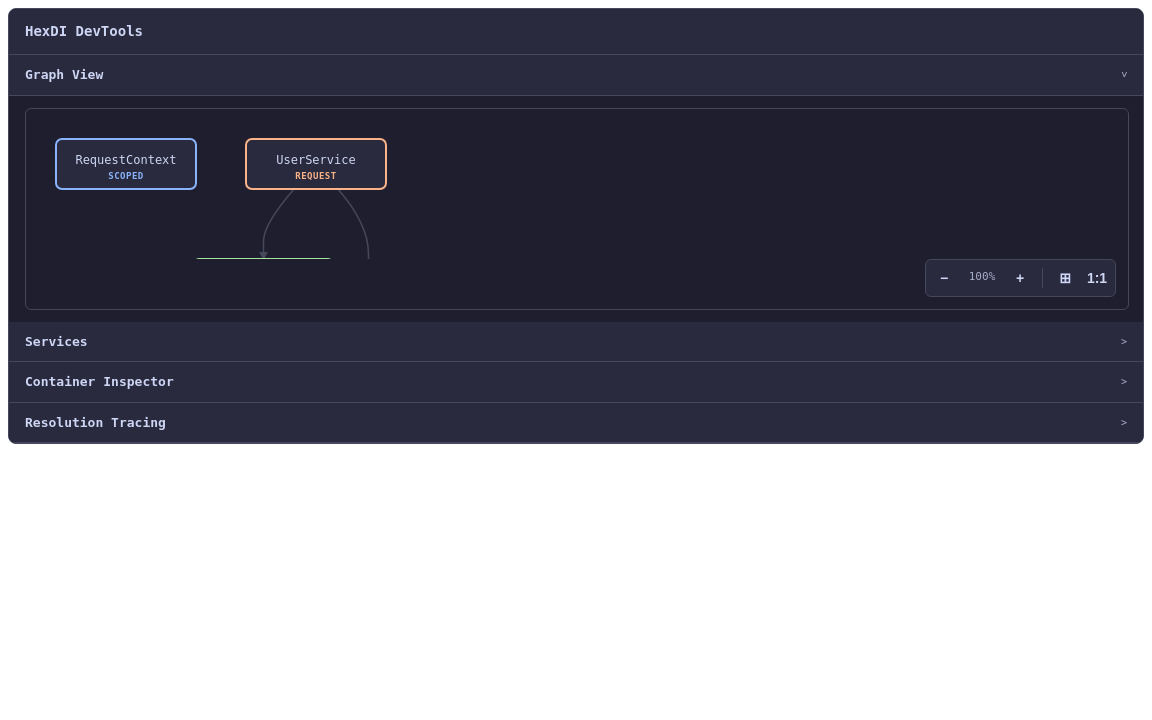
Test case: ContainerInspector › ScopeHierarchy displays tree structure with expand/collapse
Click the button with test id "container-inspector-header" at (99, 382), box left=9, top=362, right=1143, bottom=402
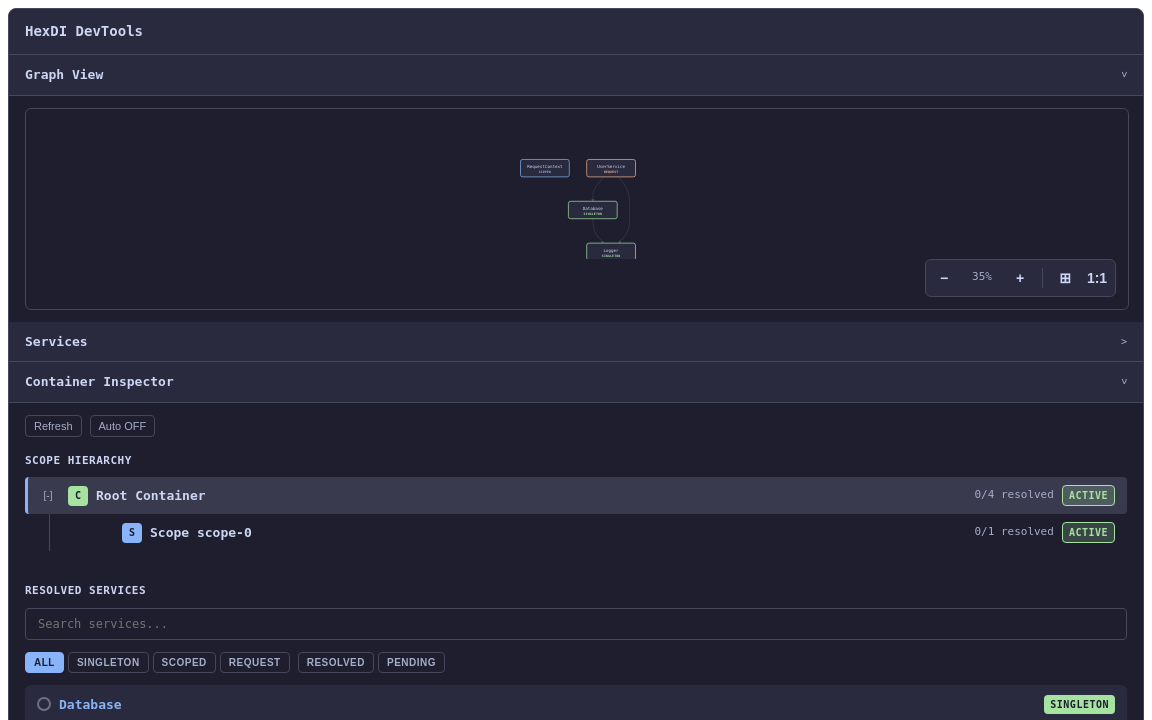
Check: the element with test id "scope-node-container" is shown, box left=25, top=477, right=1127, bottom=551
Check: the element with test id "scope-node-container" shows "Root Container", box left=96, top=488, right=206, bottom=503
Check: the text with test id "scope-node-container-status" reads "Active", box left=1069, top=490, right=1108, bottom=501
